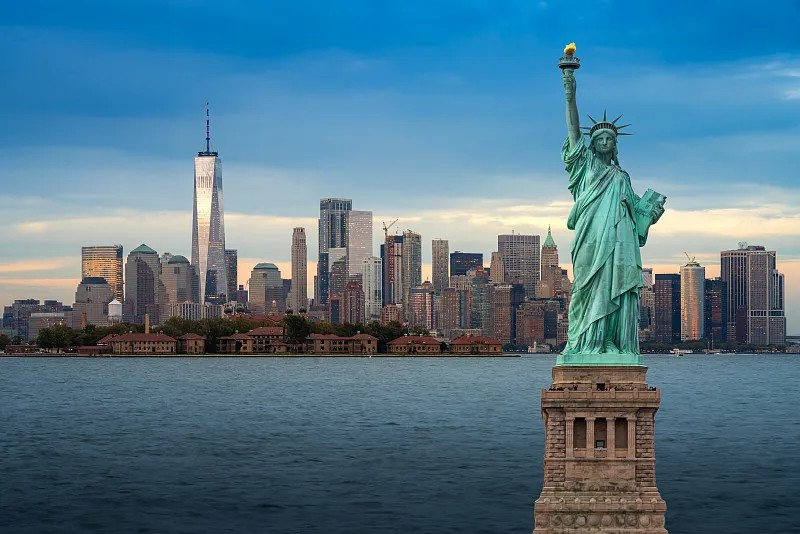SL: (532, 41, 668, 534)
